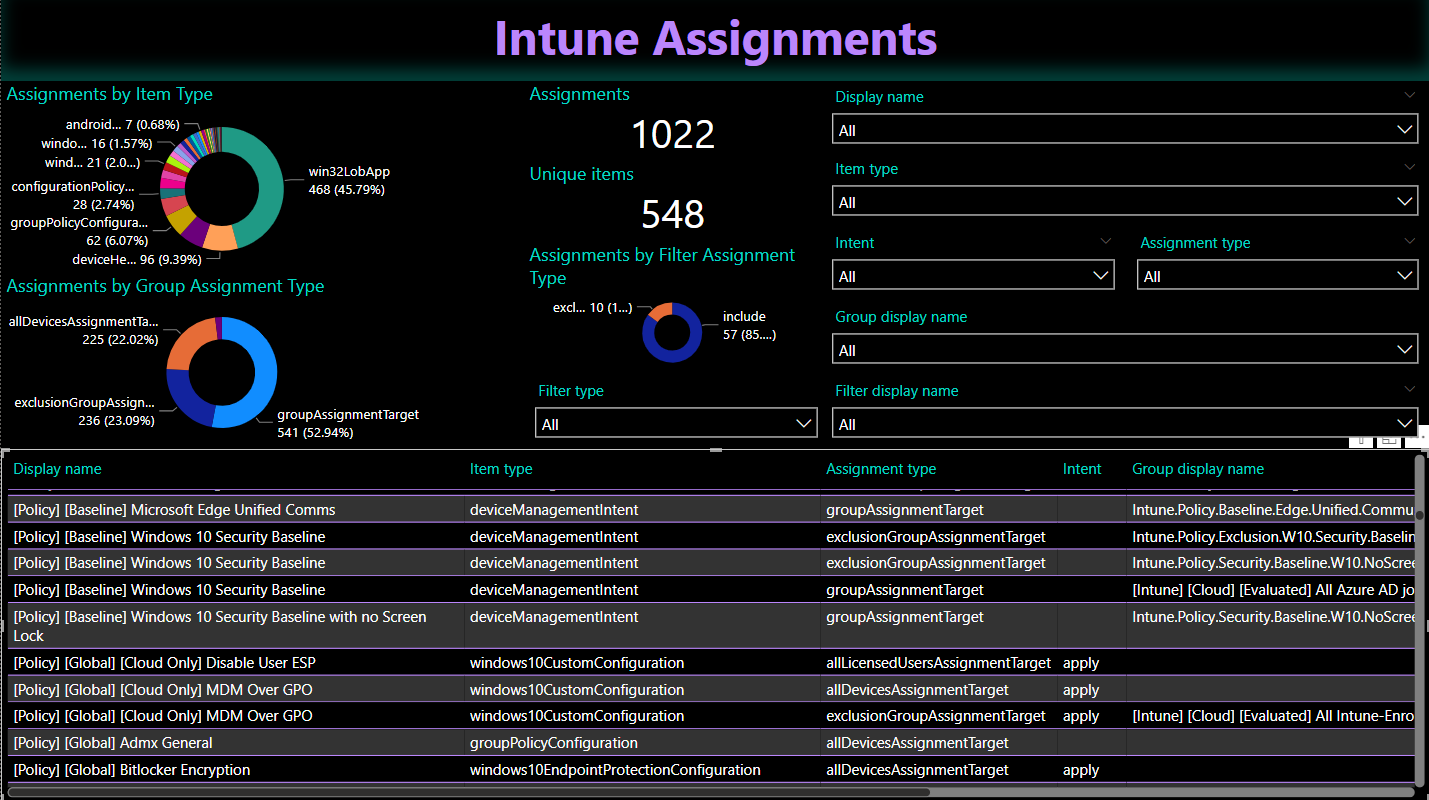

The dashboard page shown, as its layout file describes it:
{"tool":"powerbi","page":{"name":"Assignments","canvas":[1280,720],"ordinal":0},"visuals":[{"type":"tableEx","fields":{"Values":["intune-assignments.DisplayName","intune-assignments.ItemType","intune-assignments.AssignmentType","intune-assignments.Intent","intune-assignments.GroupDisplayName","intune-assignments.FilterDisplayName","intune-assignments.FilterType"]},"box":[0,403.9,1279.7,317],"z":0},{"type":"donutChart","title":"Assignments by Item Type","fields":{"Category":["intune-assignments.ItemType"],"Y":["CountNonNull(intune-assignments.ItemId)"]},"box":[0,74.1,395.6,172.3],"z":1},{"type":"slicer","fields":{"Values":["intune-assignments.DisplayName"]},"box":[734.3,74.3,545.4,64.5],"z":2},{"type":"slicer","fields":{"Values":["intune-assignments.ItemType"]},"box":[734.3,138.8,545.4,66.3],"z":3},{"type":"textbox","box":[0,0,1279.7,74.3],"z":4},{"type":"slicer","fields":{"Values":["intune-assignments.AssignmentType"]},"box":[1007.5,205.1,272.2,66.3],"z":5},{"type":"slicer","fields":{"Values":["intune-assignments.Intent"]},"box":[734.3,205.1,273.1,66.3],"z":6},{"type":"slicer","fields":{"Values":["intune-assignments.GroupDisplayName"]},"box":[734.3,271.3,545.4,66.3],"z":7},{"type":"slicer","fields":{"Values":["intune-assignments.FilterDisplayName"]},"box":[734.3,337.6,545.4,66.3],"z":8},{"type":"slicer","fields":{"Values":["intune-assignments.FilterType"]},"box":[468.4,337.6,273.1,66.3],"z":9},{"type":"card","title":"Assignments","fields":{"Values":["CountNonNull(intune-assignments.ItemId)"]},"box":[468.4,74.3,266,71.6],"z":10},{"type":"card","title":"Unique items","fields":{"Values":["Count(intune-assignments.ItemId)"]},"box":[468.4,146,266,71.6],"z":11},{"type":"donutChart","title":"Assignments by Group Assignment Type","fields":{"Y":["CountNonNull(intune-assignments.ItemId)"],"Category":["intune-assignments.AssignmentType"]},"box":[0,246.4,395.6,157.2],"z":12},{"type":"donutChart","title":"Assignments by Filter Assignment Type","fields":{"Y":["CountNonNull(intune-assignments.ItemId)"],"Category":["intune-assignments.FilterType"]},"box":[468.7,218.3,265.4,120.2],"z":13}]}

Visuals, with their boxes in screenshot pixels (x1, y1, x2, y2), scaled from the page's 1280x720 canvas onto the 1429x800 screenshot:
tableEx - intune-assignments.DisplayName x intune-assignments.ItemType: x1=0, y1=449, x2=1428, y2=799
"Assignments by Item Type" donutChart: x1=0, y1=82, x2=442, y2=274
slicer - intune-assignments.DisplayName: x1=820, y1=83, x2=1428, y2=154
slicer - intune-assignments.ItemType: x1=820, y1=154, x2=1428, y2=228
textbox: x1=0, y1=0, x2=1428, y2=83
slicer - intune-assignments.AssignmentType: x1=1125, y1=228, x2=1428, y2=302
slicer - intune-assignments.Intent: x1=820, y1=228, x2=1125, y2=302
slicer - intune-assignments.GroupDisplayName: x1=820, y1=301, x2=1428, y2=375
slicer - intune-assignments.FilterDisplayName: x1=820, y1=375, x2=1428, y2=449
slicer - intune-assignments.FilterType: x1=523, y1=375, x2=828, y2=449
"Assignments" card: x1=523, y1=83, x2=820, y2=162
"Unique items" card: x1=523, y1=162, x2=820, y2=242
"Assignments by Group Assignment Type" donutChart: x1=0, y1=274, x2=442, y2=448
"Assignments by Filter Assignment Type" donutChart: x1=523, y1=243, x2=820, y2=376
